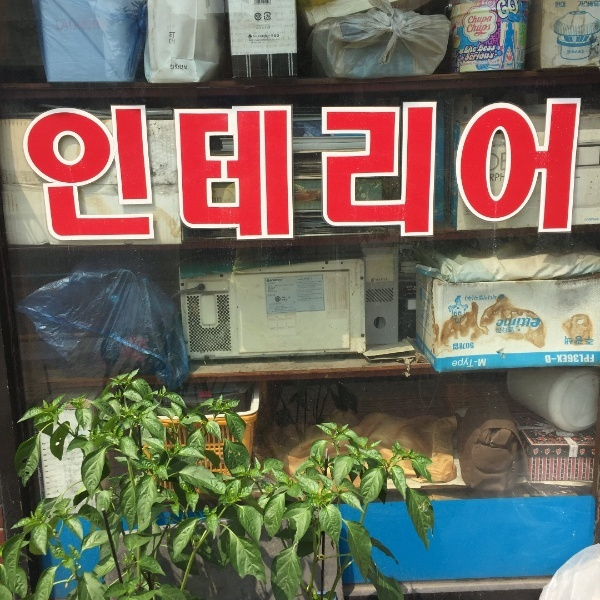text: (33, 91, 48, 249), (49, 91, 64, 249), (65, 91, 80, 249), (81, 91, 96, 249), (97, 91, 112, 249), (113, 91, 128, 249), (129, 91, 144, 249), (145, 91, 160, 249), (161, 91, 176, 249), (177, 91, 192, 249), (193, 91, 208, 249), (209, 91, 224, 249), (225, 91, 240, 249), (241, 91, 256, 249), (257, 91, 272, 249), (273, 91, 288, 249), (289, 91, 304, 249), (305, 91, 320, 249), (321, 91, 336, 249), (337, 91, 352, 249), (353, 91, 368, 249), (369, 91, 384, 249), (385, 91, 400, 249), (401, 91, 416, 249), (417, 91, 432, 249), (433, 91, 448, 249), (449, 91, 464, 249), (465, 91, 480, 249), (481, 91, 496, 249), (497, 91, 512, 249), (513, 91, 528, 249), (529, 91, 544, 249), (545, 91, 560, 249), (561, 91, 576, 249), (19, 91, 32, 249), (577, 91, 586, 249), (467, 23, 480, 38), (497, 317, 512, 329), (513, 317, 528, 329), (465, 358, 480, 369), (545, 353, 560, 364), (561, 353, 576, 364), (577, 353, 592, 364), (481, 23, 492, 38), (577, 336, 592, 346), (465, 44, 480, 54), (481, 44, 496, 54), (529, 317, 541, 329), (481, 52, 495, 62), (481, 294, 496, 303), (257, 12, 272, 21), (452, 358, 464, 369), (468, 15, 480, 26), (481, 15, 493, 26), (467, 52, 480, 62), (466, 294, 480, 303), (564, 336, 576, 346), (168, 31, 176, 46), (497, 327, 512, 334), (577, 1, 592, 8), (453, 342, 464, 351), (177, 63, 188, 72), (465, 342, 474, 351), (497, 173, 505, 183), (481, 358, 488, 369), (257, 34, 272, 39), (489, 173, 496, 183), (497, 143, 506, 149), (170, 63, 176, 72), (593, 1, 599, 8), (561, 2, 566, 9), (273, 34, 279, 39), (556, 2, 560, 9), (588, 1, 592, 8), (492, 143, 496, 149), (593, 336, 595, 346), (252, 34, 256, 39), (254, 12, 256, 21), (513, 327, 515, 334), (593, 353, 594, 364), (497, 294, 498, 303)
